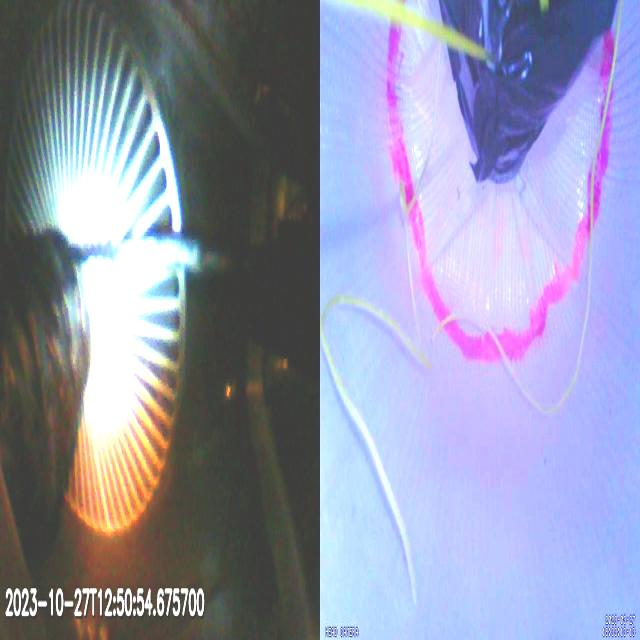red-circle: (387, 19, 615, 365)
